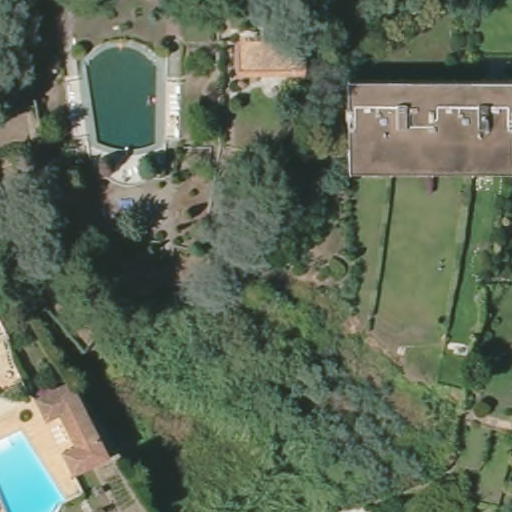pool: (88, 41, 163, 160), (1, 425, 71, 512)
